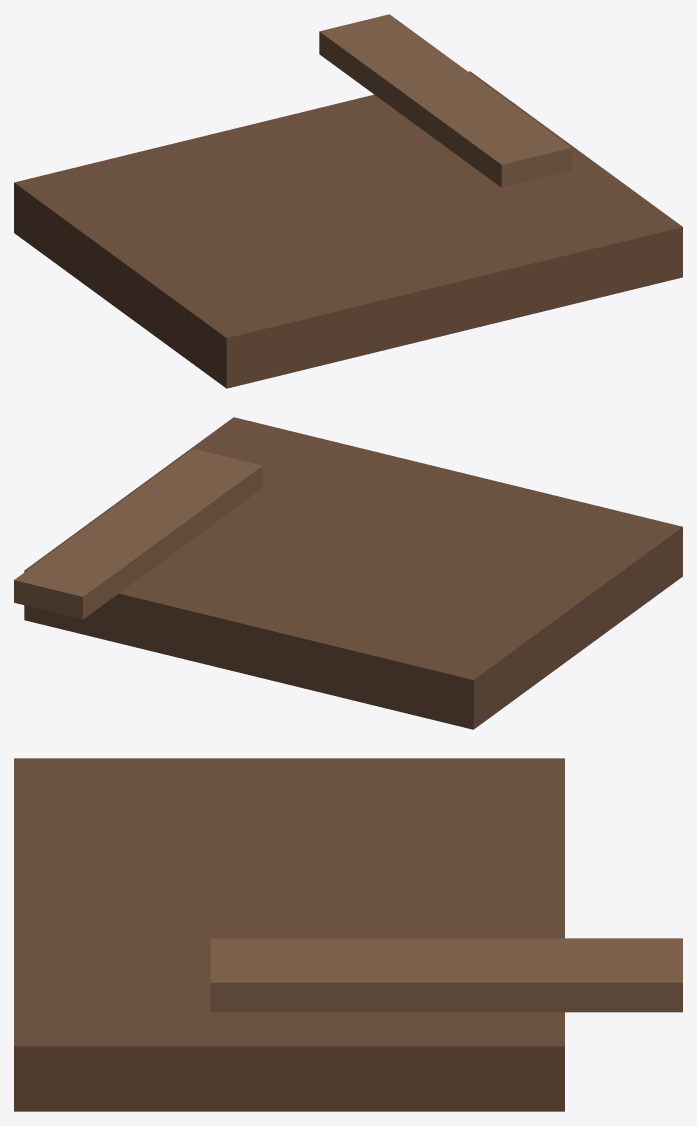
File: prop_bottom_small_frame.glb
3 views of the same model, one above another, from view 1: azimuth 30°, elevation 25°; view 2: azimuth 150°, elevation 25°; view 3: azimuth 270°, elevation 25° (orthographic). The views are drawn at different scales.
Visible parts, largest first — view 1: prop_bottom_small_frame_dark_walnut_outer_frame, prop_bottom_small_frame_back_support_kickstand; view 2: prop_bottom_small_frame_dark_walnut_outer_frame, prop_bottom_small_frame_back_support_kickstand; view 3: prop_bottom_small_frame_dark_walnut_outer_frame, prop_bottom_small_frame_back_support_kickstand.
Part boxes in pixels (<box>): prop_bottom_small_frame_dark_walnut_outer_frame: <box>14,71,682,388</box>; prop_bottom_small_frame_back_support_kickstand: <box>319,14,571,187</box>; prop_bottom_small_frame_dark_walnut_outer_frame: <box>24,417,682,729</box>; prop_bottom_small_frame_back_support_kickstand: <box>14,448,262,619</box>; prop_bottom_small_frame_dark_walnut_outer_frame: <box>14,758,564,1111</box>; prop_bottom_small_frame_back_support_kickstand: <box>210,938,682,1012</box>.
Bounding box in the file's own units: 0.52 × 0.1265 × 0.51.
